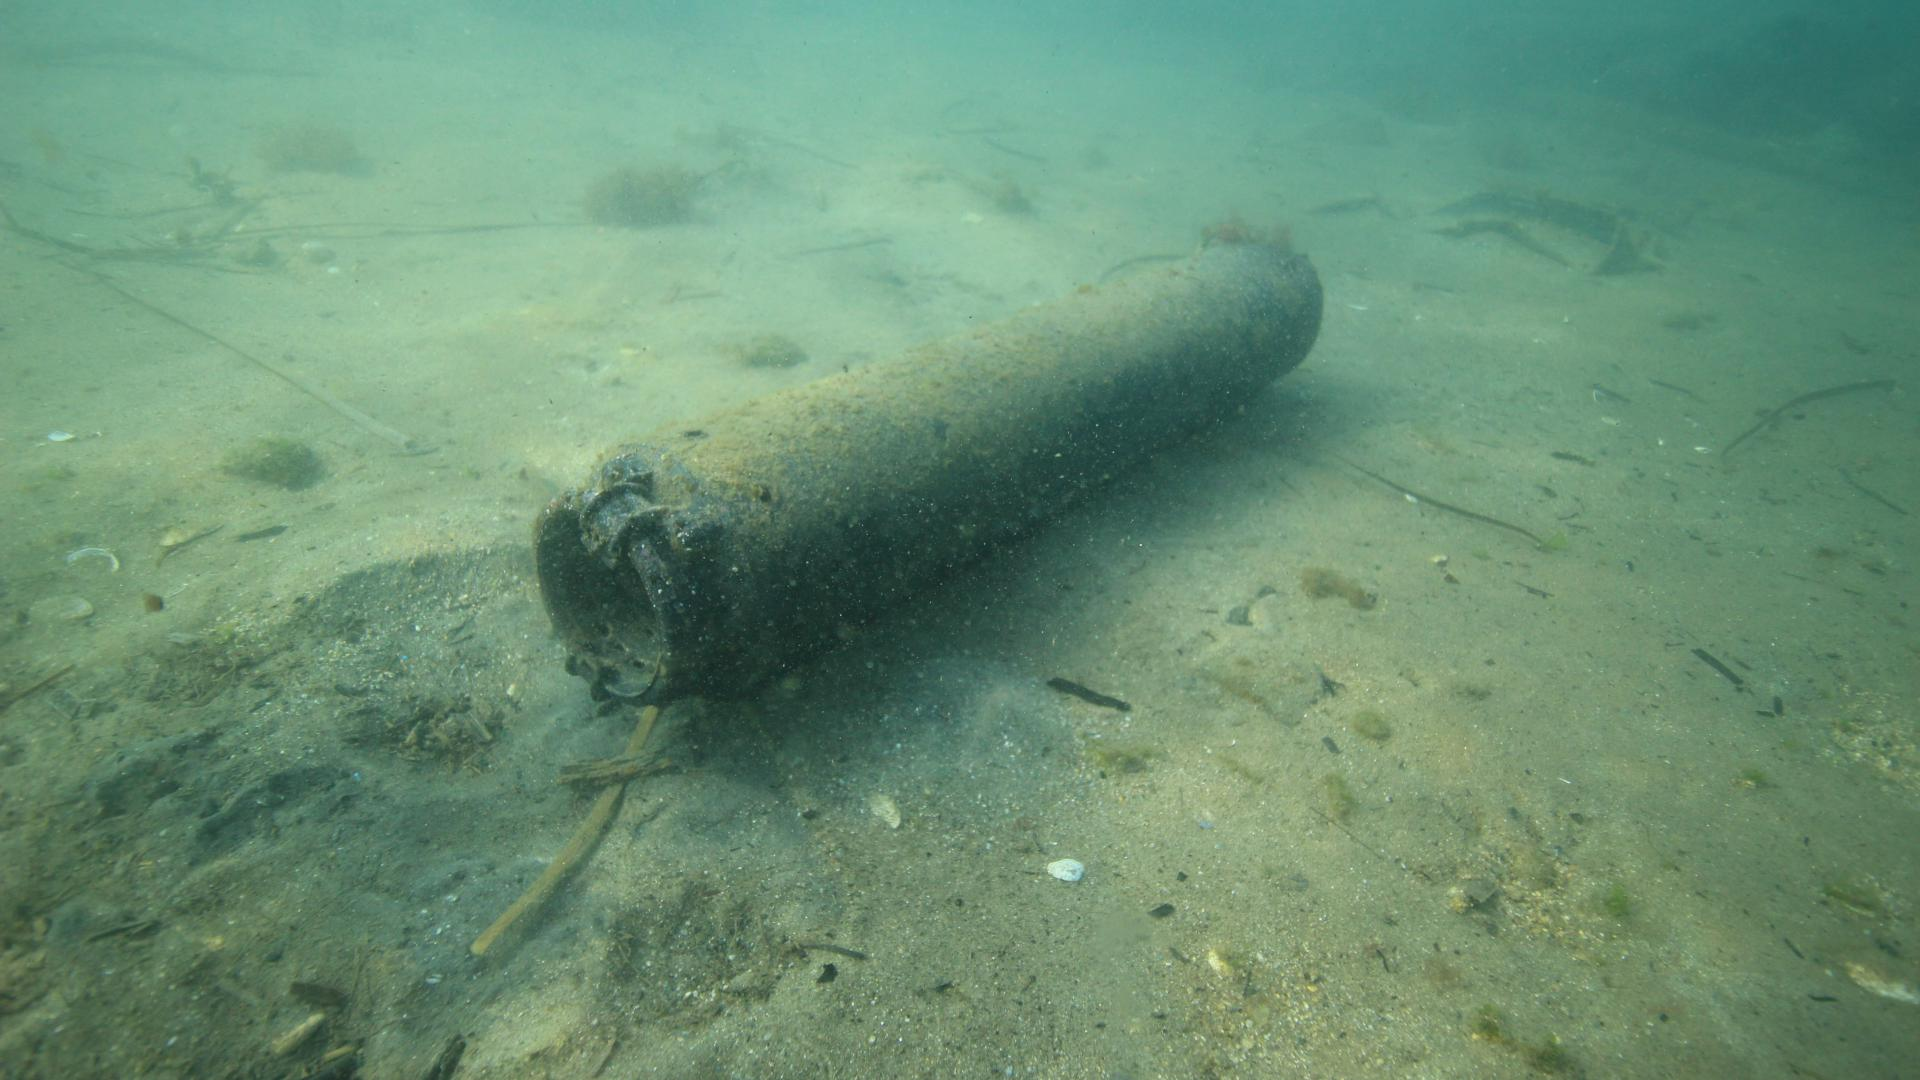eel fish trap: (531, 232, 1331, 708)
